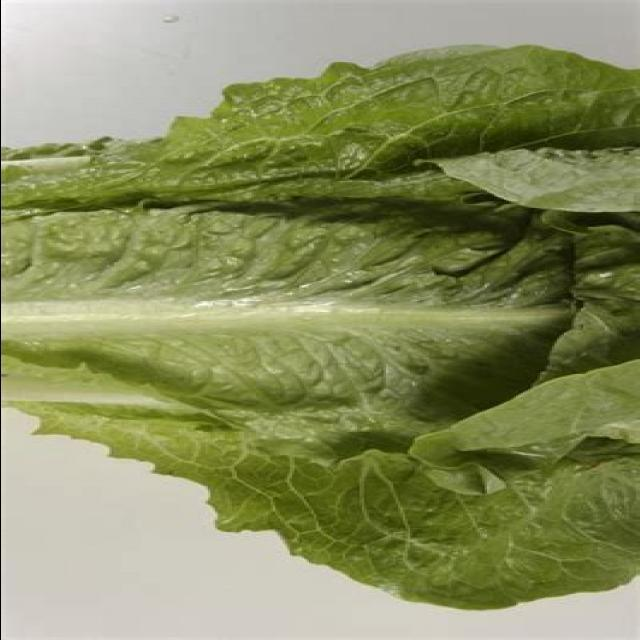healthy: (9, 66, 637, 544)
